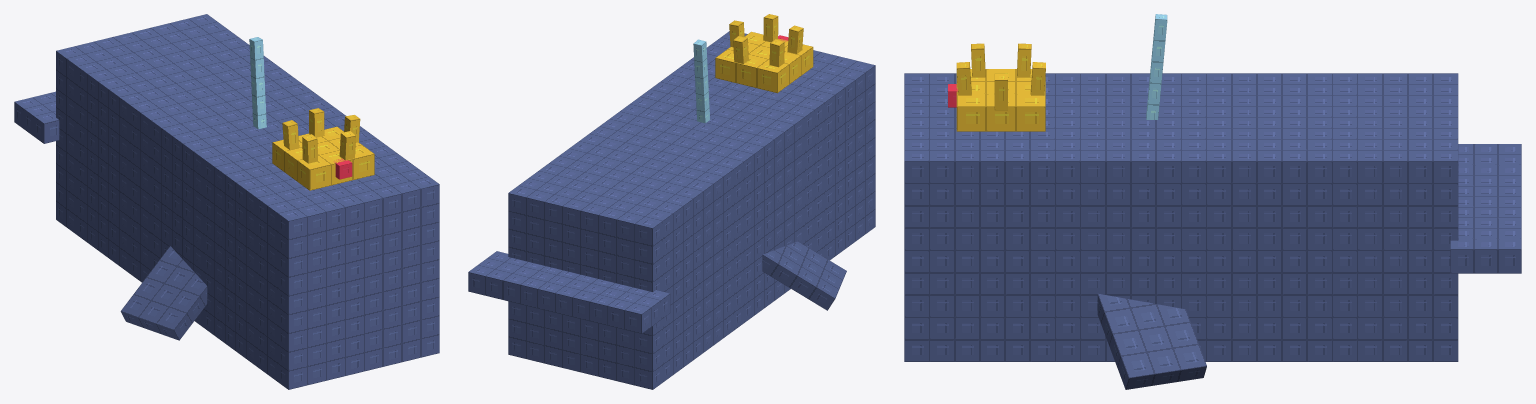
3 renders of one model, left to right at view 1: azimuth 30°, elevation 25°; view 2: azimuth 150°, elevation 25°; view 3: azimuth 270°, elevation 25°, orthographic. The views are drawn at different scales.
Visible parts, largest first — view 1: Lunar Whale; view 2: Lunar Whale; view 3: Lunar Whale.
Boxes of the visible parts, x1,y1,x2,y2 form: Lunar Whale: (14, 14, 439, 389); Lunar Whale: (468, 14, 875, 389); Lunar Whale: (904, 14, 1521, 389).
Bounding box in the file's own units: 3.85 × 3.44 × 6.24.
1 material, 1 textured.
